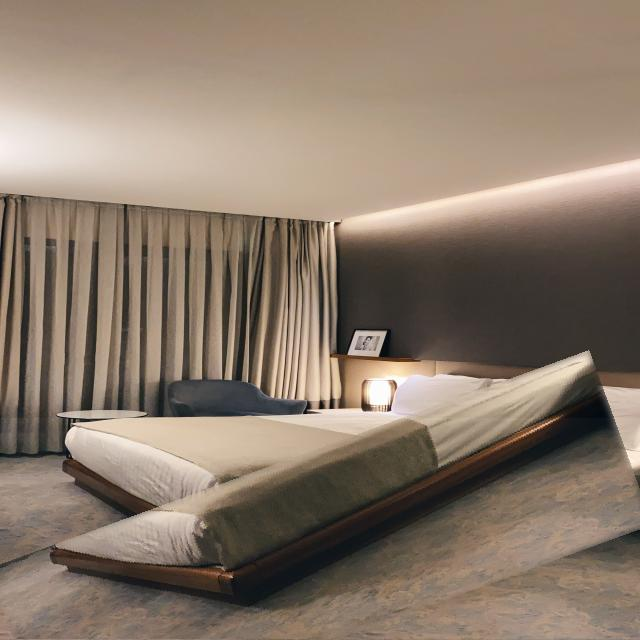floor: (0, 418, 640, 640)
